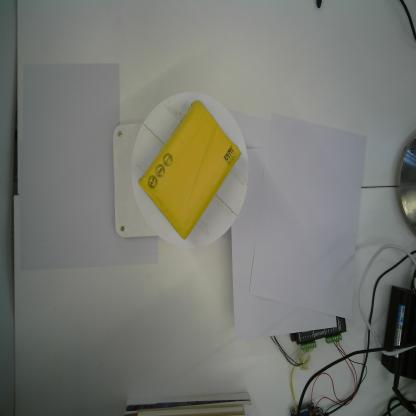Tissue: (137, 98, 242, 244)
